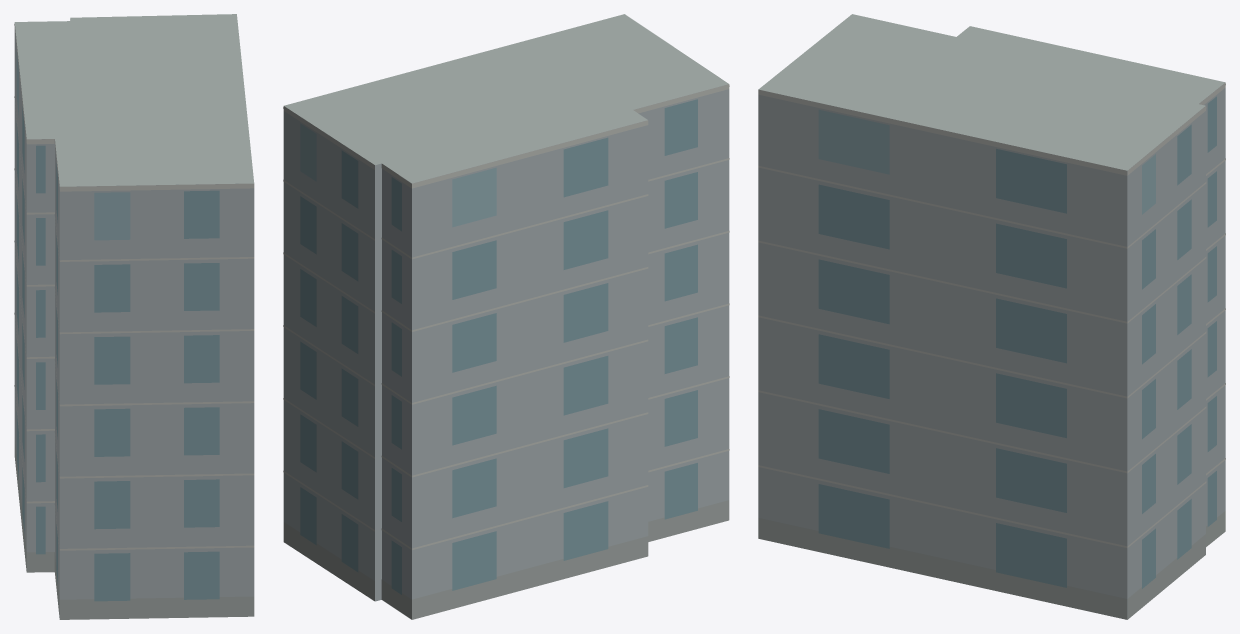
The model's file is survey-upis-32760517.glb.
The picture shows the model from 3 angles, left to right: view 1: azimuth 30°, elevation 25°; view 2: azimuth 150°, elevation 25°; view 3: azimuth 270°, elevation 25°; orthographic projection. The views are drawn at different scales.
Visible parts, largest first — view 1: survey-upis-32760517.tmp; view 2: survey-upis-32760517.tmp; view 3: survey-upis-32760517.tmp.
Boxes of the visible parts, <box> form: survey-upis-32760517.tmp: <box>14,14,254,619</box>; survey-upis-32760517.tmp: <box>283,14,729,619</box>; survey-upis-32760517.tmp: <box>758,14,1225,619</box>.
Size of the model in its own units: 16.04 by 21.4 by 20.2.
